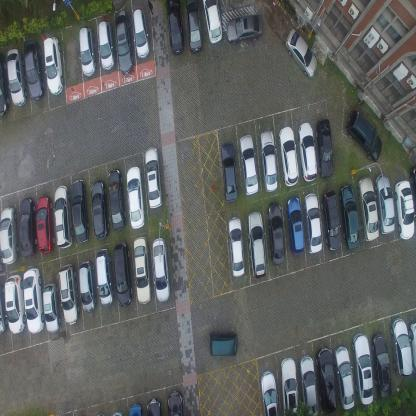car: (346, 107, 383, 163), (284, 27, 316, 77), (354, 330, 374, 404), (23, 267, 45, 334), (359, 175, 381, 240), (372, 330, 393, 398), (247, 211, 268, 278), (341, 183, 362, 250), (53, 184, 74, 250), (336, 344, 356, 411), (150, 238, 170, 304), (113, 241, 133, 307), (4, 274, 26, 334), (390, 316, 412, 376), (113, 9, 133, 75), (22, 40, 44, 100), (278, 126, 299, 188), (238, 135, 259, 197), (267, 199, 287, 263), (126, 166, 146, 230), (58, 264, 79, 324), (43, 36, 64, 96), (70, 178, 89, 244), (304, 192, 324, 254), (322, 189, 342, 251), (394, 177, 414, 239), (6, 48, 27, 107), (133, 236, 151, 304), (226, 12, 263, 45), (259, 132, 279, 192), (298, 122, 318, 182), (145, 147, 164, 210), (94, 249, 115, 306), (375, 174, 395, 233), (19, 196, 38, 257), (108, 170, 126, 234), (227, 216, 246, 276), (287, 196, 306, 256), (220, 143, 239, 203), (316, 118, 335, 178), (299, 356, 318, 416), (36, 195, 55, 253), (0, 206, 19, 264), (90, 179, 108, 240), (280, 355, 298, 415), (79, 24, 97, 78), (186, 0, 204, 53), (165, 0, 183, 53), (78, 260, 96, 312), (42, 282, 60, 333), (132, 8, 150, 59), (97, 21, 115, 70), (204, 0, 223, 45), (208, 332, 240, 358), (260, 370, 278, 416), (0, 53, 10, 115), (166, 389, 184, 415), (0, 280, 8, 334), (408, 321, 416, 370), (145, 396, 161, 415), (128, 402, 142, 415)
